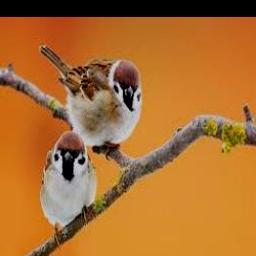Sparrow: (39, 45, 141, 161), (40, 130, 97, 249)
